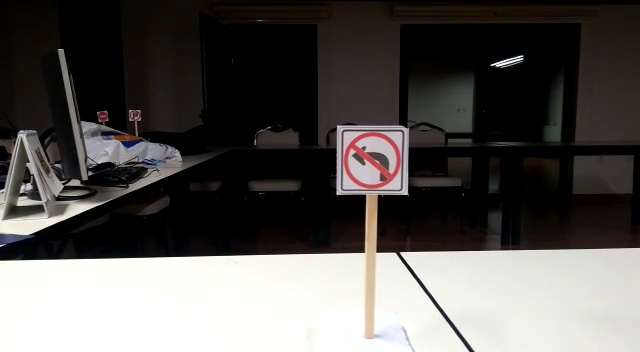sola_donulmez: (347, 138, 401, 186)
